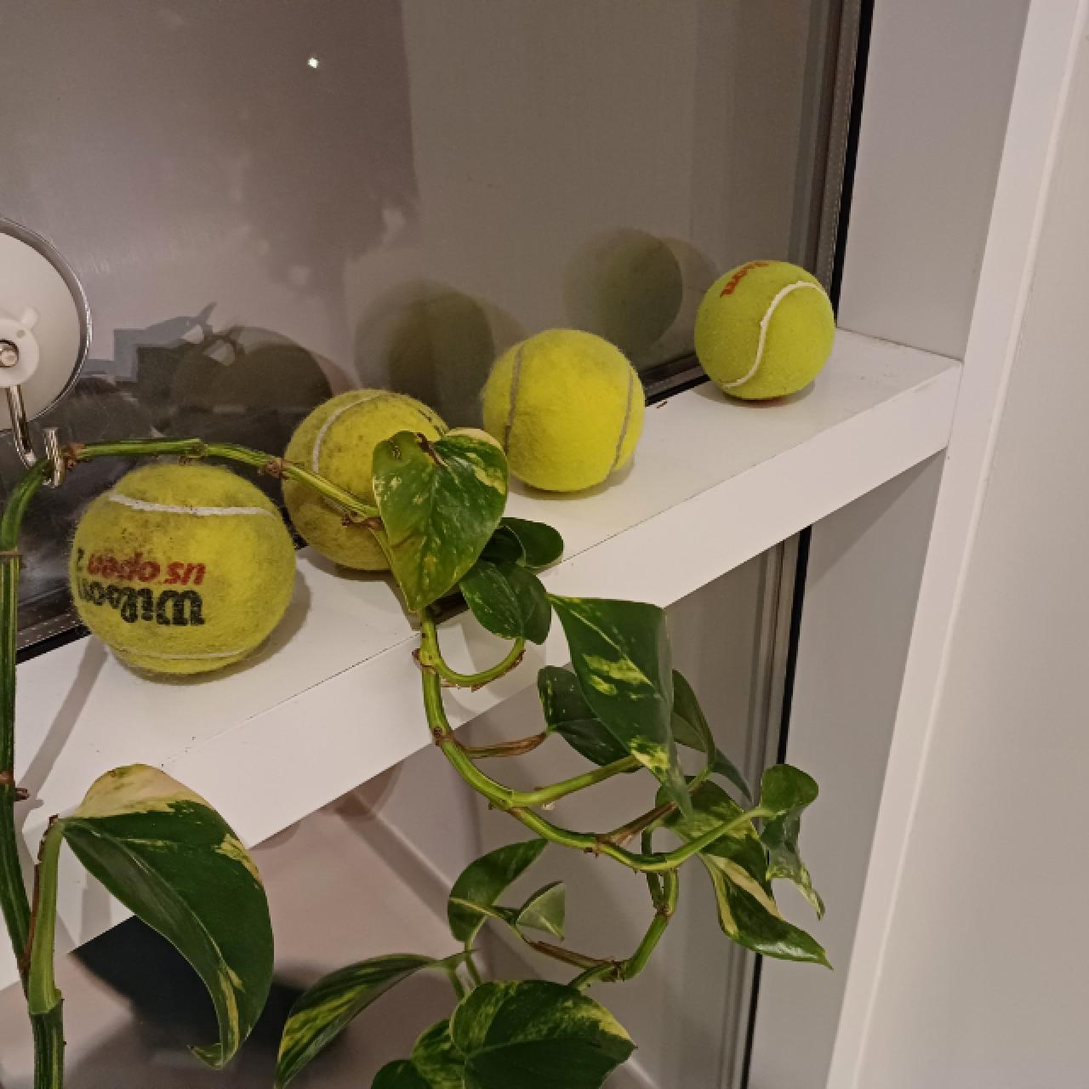tennis-ball: (71, 461, 299, 677), (282, 390, 461, 574), (478, 326, 650, 495), (694, 257, 834, 402)
